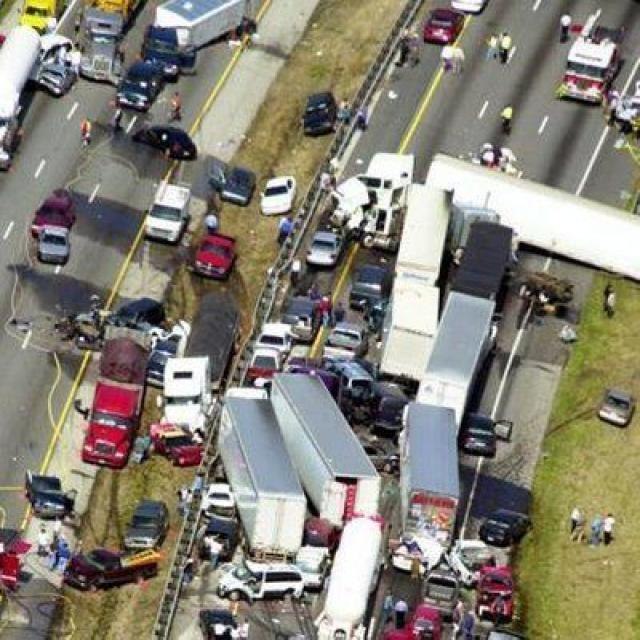traffic_incident: (50, 156, 496, 638)
